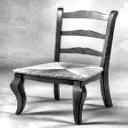chair_success: (6, 5, 124, 125)
